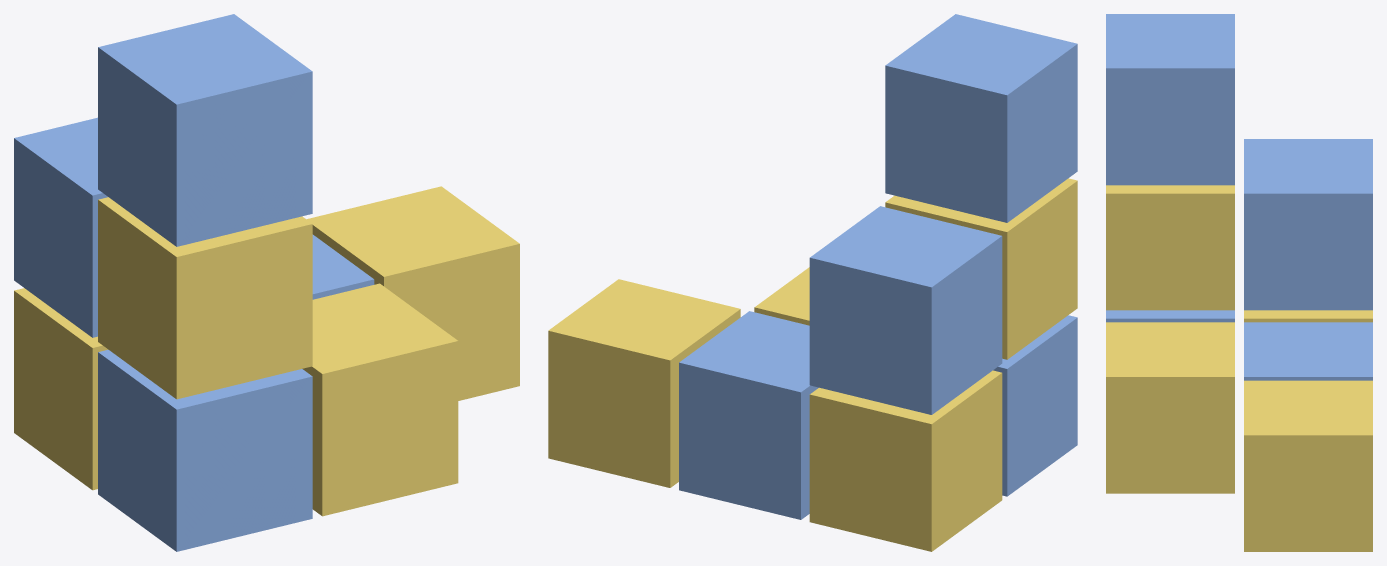
File: pepejal-C.glb
3 views of the same model, side by side, from view 1: azimuth 30°, elevation 25°; view 2: azimuth 150°, elevation 25°; view 3: azimuth 270°, elevation 25° (orthographic). The views are drawn at different scales.
Visible parts, largest first — view 1: pepejal; view 2: pepejal; view 3: pepejal.
Part boxes in pixels (<box>): pepejal: <box>14,14,519,551</box>; pepejal: <box>548,14,1077,551</box>; pepejal: <box>1106,14,1372,551</box>.
Bounding box in the file's own units: 0.176 × 0.176 × 0.116.
